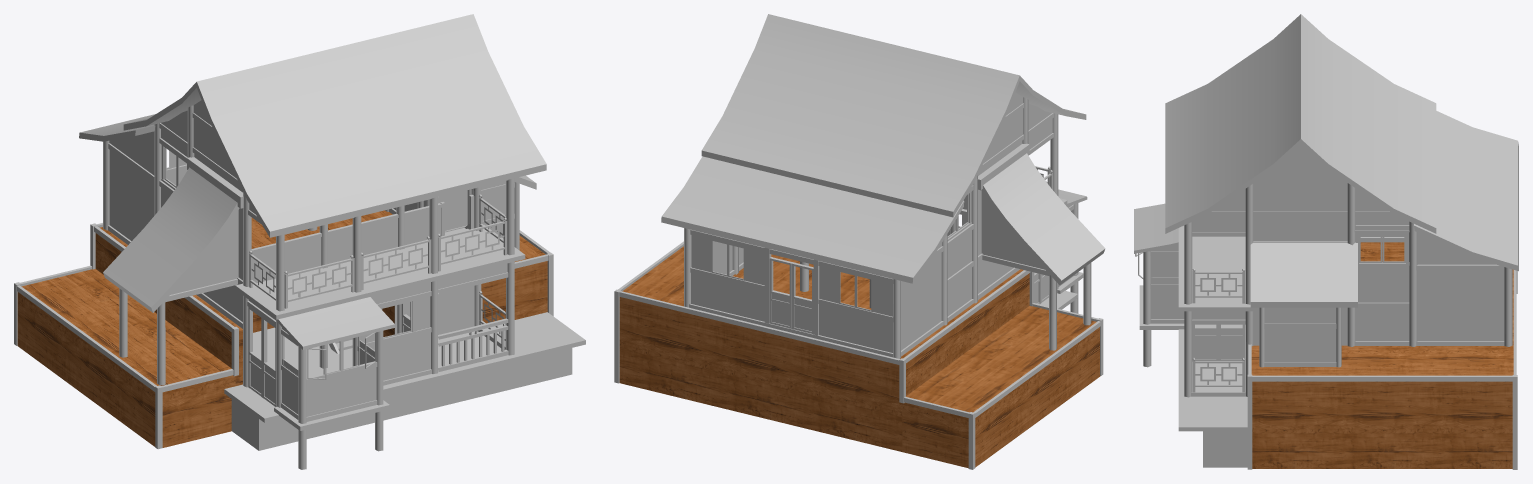
The model's file is fisherman building lod1.fbx.
The picture shows the model from 3 angles, left to right: view 1: azimuth 30°, elevation 25°; view 2: azimuth 150°, elevation 25°; view 3: azimuth 270°, elevation 25°; orthographic projection. The views are drawn at different scales.
Parts seen in each view (by area): view 1: polySurface2024; view 2: polySurface2024; view 3: polySurface2024.
Boxes of the visible parts, bbox=[...] form: polySurface2024: bbox=[14, 14, 585, 469]; polySurface2024: bbox=[614, 14, 1105, 469]; polySurface2024: bbox=[1134, 14, 1518, 469].
Bounding box in the file's own units: 16.65 × 13.3 × 15.05.
